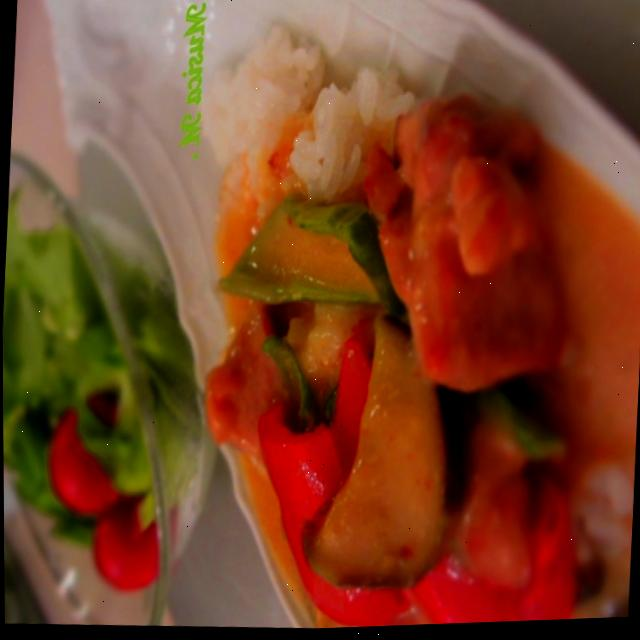炸货点心: (142, 0, 597, 636)
熟制海鲜: (142, 0, 597, 636)
